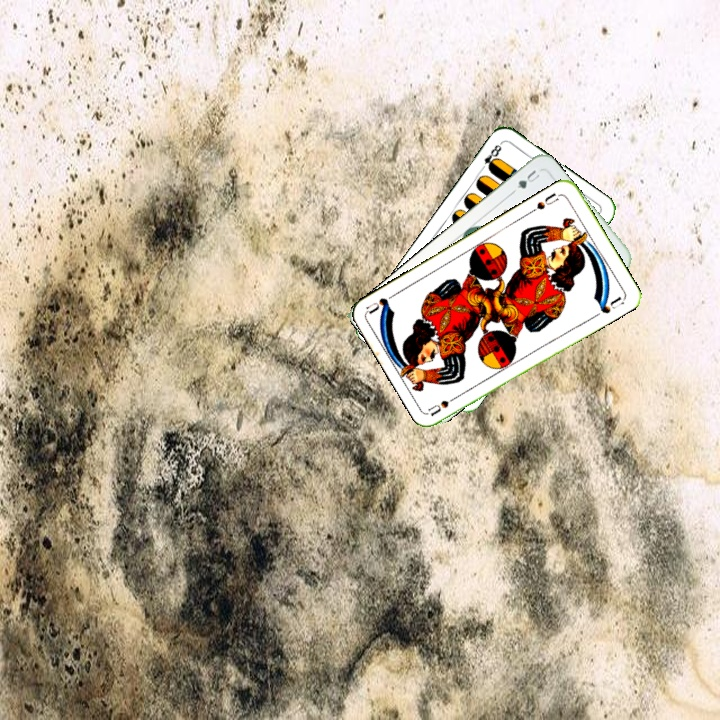E8: (476, 139, 505, 174)
GU: (508, 166, 542, 196)
SU: (425, 390, 464, 418), (526, 188, 561, 216)
